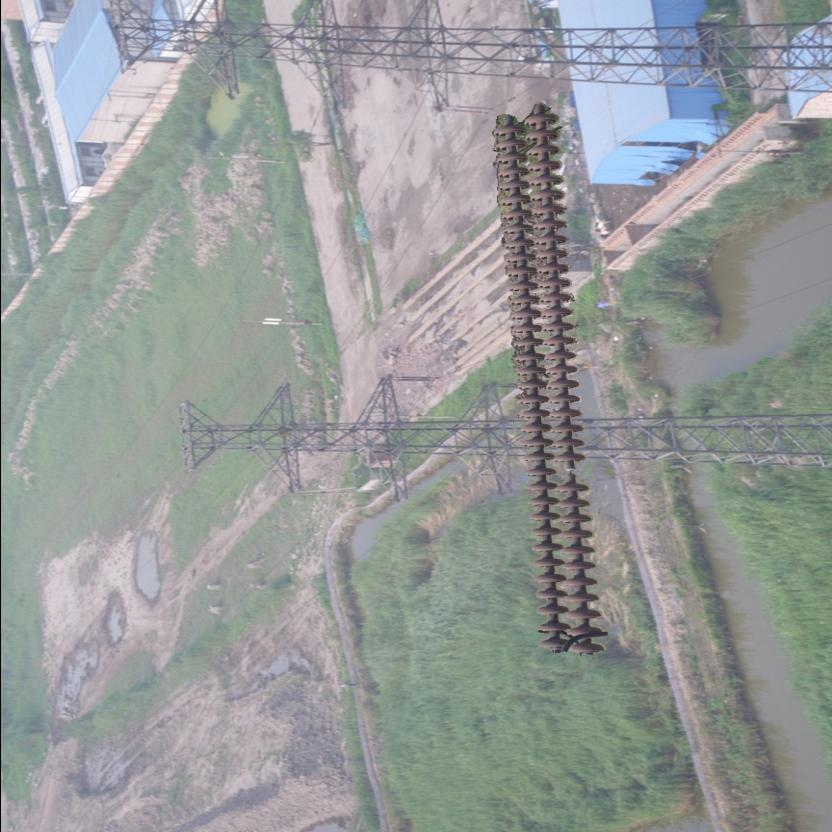defect: (552, 448, 588, 497)
